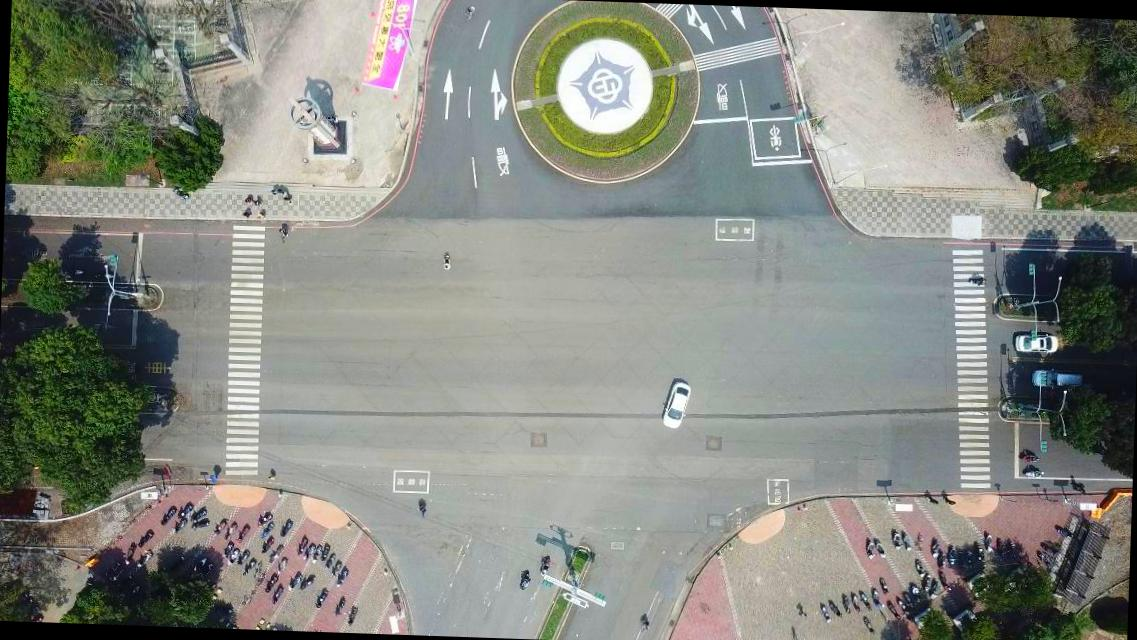vehicle: (661, 381, 690, 428), (1030, 368, 1082, 390), (1013, 332, 1058, 353)
